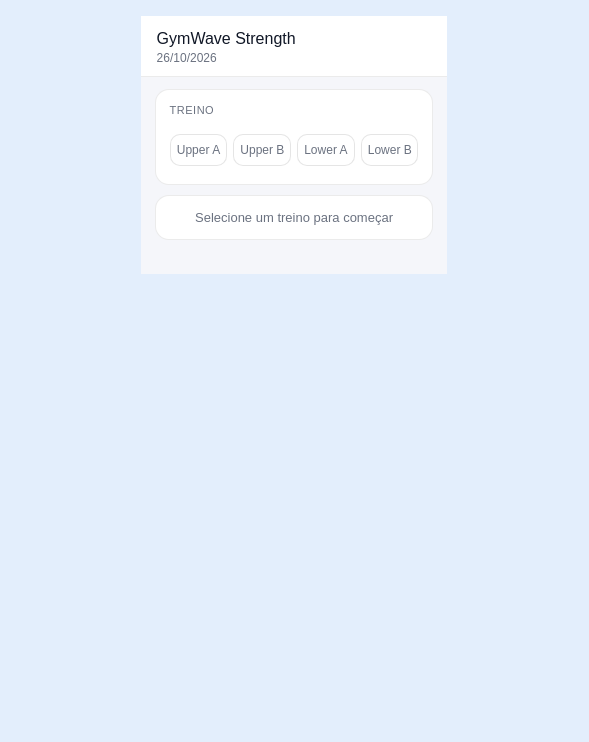
Test: TreinoSessao — Fluxo Saizen Top Set + Back-off › Selecao de sessao › selecionar Upper B carrega Remada baixa
Click the button "Upper B" at (262, 150), box [233, 134, 291, 166]
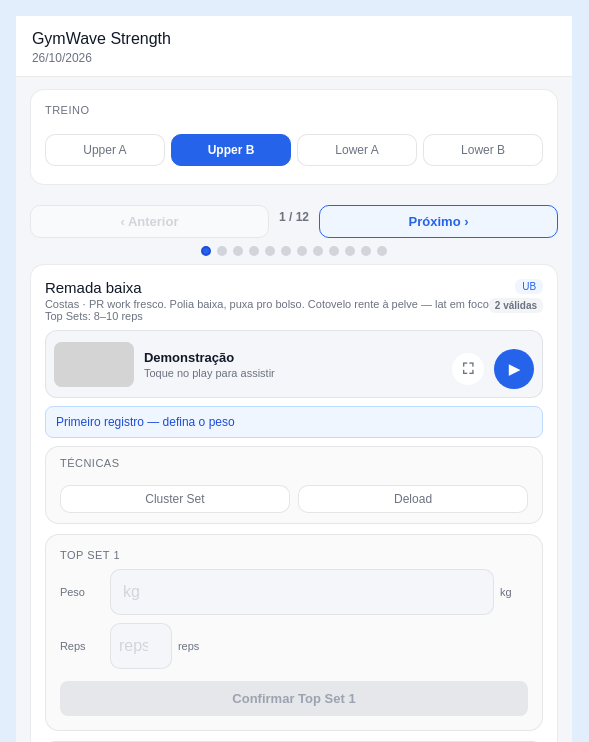
Expected: the text "Remada baixa" is shown, [45, 279, 142, 296]
